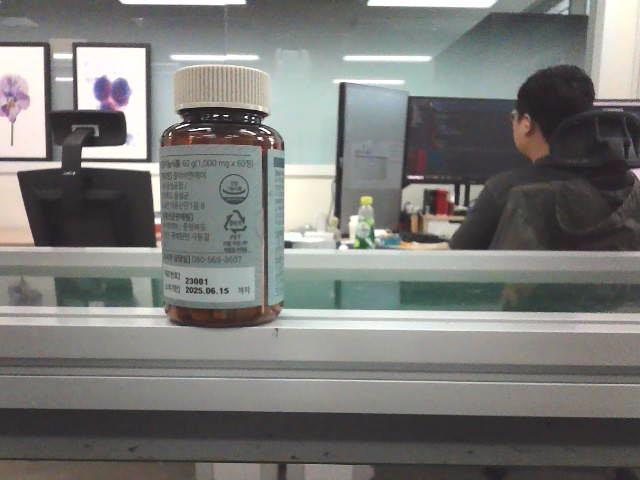labeled: (158, 63, 287, 330)
